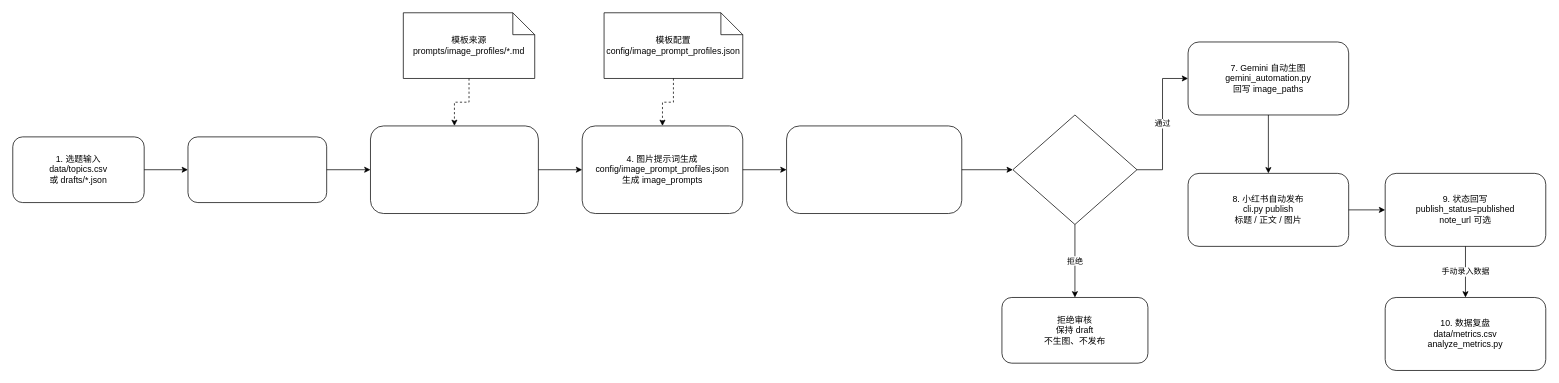
The diagram is 1559 pixels wide and 383 high, and some of its shapes have lost their labels. The shapes that lost their labels are listed below. From the top down, each one's centre as x and y in pixels, then its label:
At (257,169): "2. 内容生成 Claude 生成内容 或本地草稿整理".
At (454,169): "3. 图片模板选择 image_profile 或 category / audience / angle 自动匹配".
At (874,169): "5. 发布包输出 output/publish_packages/*.json 标题 / 正文 / 话题 / image_prompts".
At (1074,169): "6. 人工审核 输入 publish 才继续".
